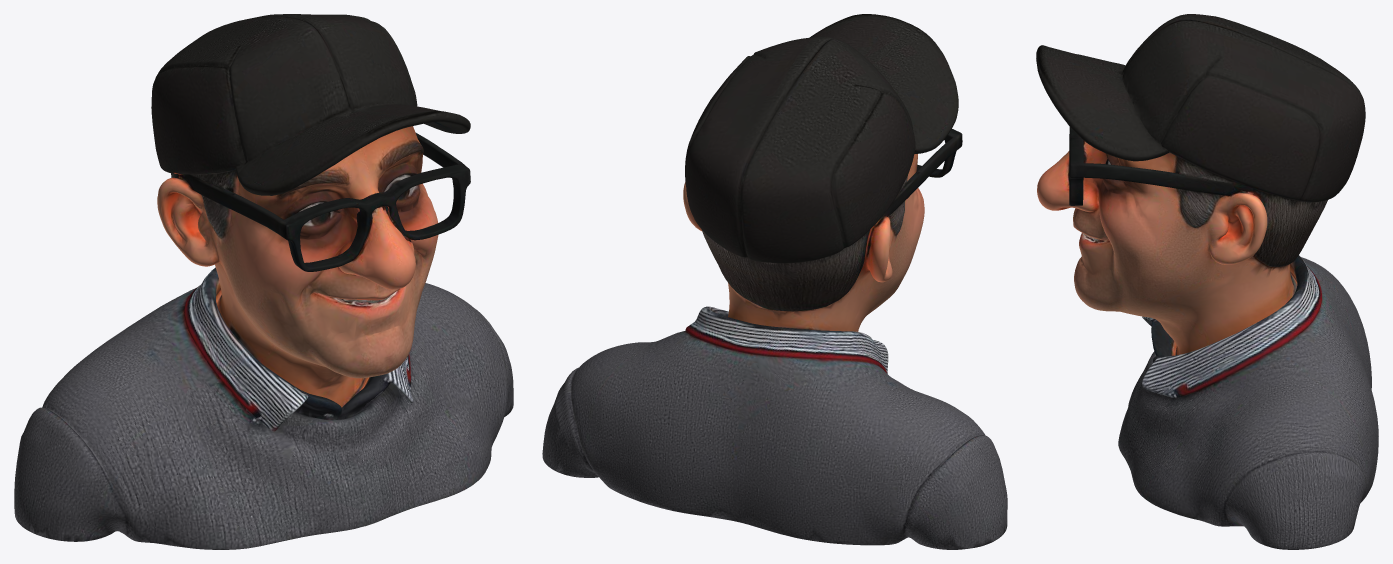
The model's file is avatar-ar.glb.
3 views of the same model, side by side, from view 1: azimuth 30°, elevation 25°; view 2: azimuth 150°, elevation 25°; view 3: azimuth 270°, elevation 25° (orthographic). The views are drawn at different scales.
Parts seen in each view (by area): view 1: node_8011be76-8303-41ab-b793-422bc4d35b3a; view 2: node_8011be76-8303-41ab-b793-422bc4d35b3a; view 3: node_8011be76-8303-41ab-b793-422bc4d35b3a.
Part boxes in pixels (x1,y1,x2,y2): node_8011be76-8303-41ab-b793-422bc4d35b3a: (14,14,513,549); node_8011be76-8303-41ab-b793-422bc4d35b3a: (542,14,1007,549); node_8011be76-8303-41ab-b793-422bc4d35b3a: (1036,14,1378,549).
Size of the model in its own units: 0.6541 by 0.6 by 0.4425.
1 material, 1 textured.
